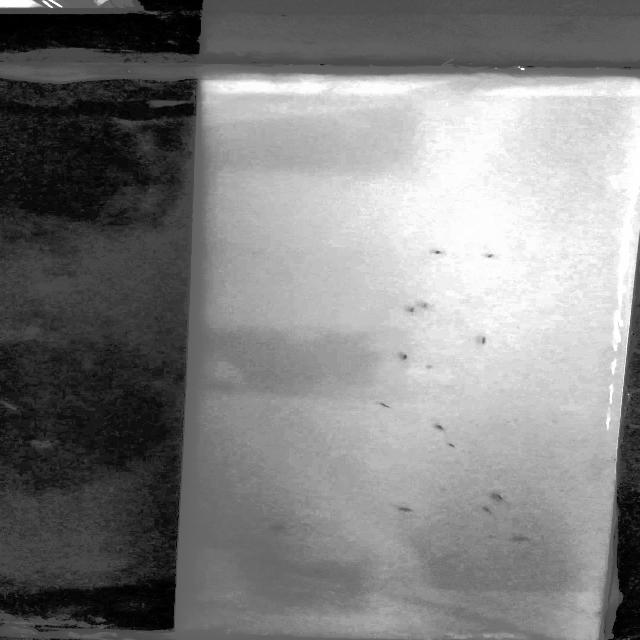shrimp: (488, 491, 514, 502), (404, 307, 424, 318), (429, 247, 452, 256), (483, 506, 501, 516), (272, 523, 290, 533), (446, 441, 466, 450), (376, 401, 396, 410), (396, 505, 418, 513), (480, 254, 501, 262), (432, 425, 450, 434), (511, 534, 531, 542), (418, 302, 432, 312), (420, 363, 434, 371), (400, 352, 411, 362), (482, 336, 494, 345)
